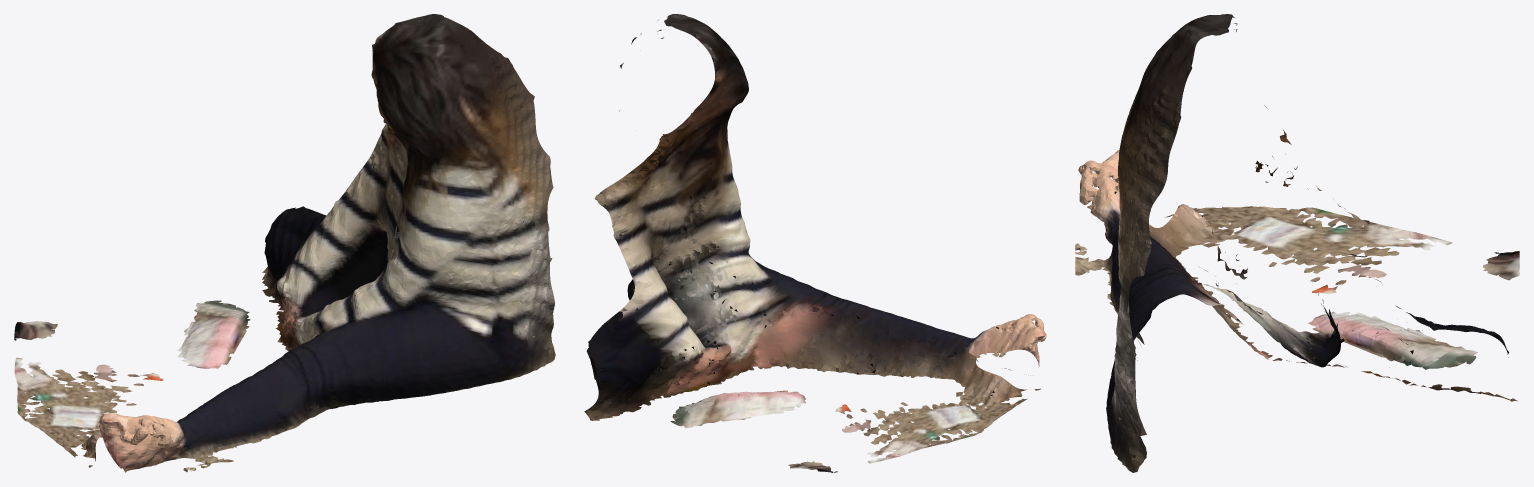
3 renders of one model, left to right at view 1: azimuth 30°, elevation 25°; view 2: azimuth 150°, elevation 25°; view 3: azimuth 270°, elevation 25°, orthographic. The views are drawn at different scales.
Bounding box in the file's own units: 1.03 × 0.7194 × 0.7318.
Materials: 1 (1 with a texture image).
